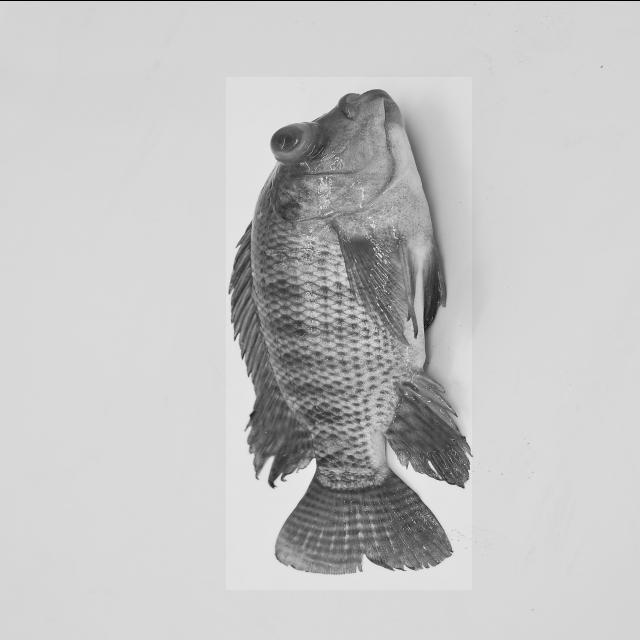streptococcus Disease: (226, 76, 472, 589)
